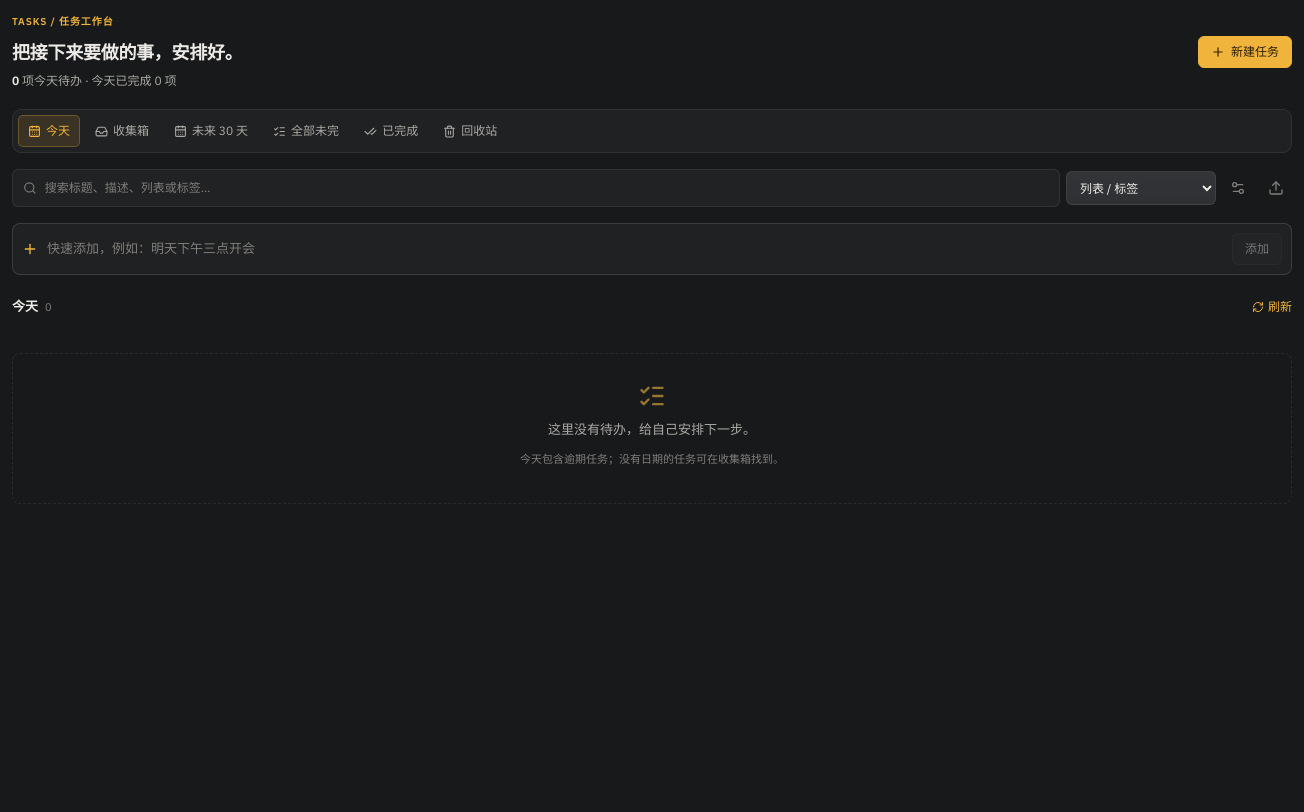
Test: 自然语言快建保留识别的日期时间，失败后保留原始输入可重试
Expected: the button "新建任务" is enabled, [1198,36,1292,68]
Type "明天下午三点开会" into the field named "快速添加任务" at {"x": 635, "y": 249}, box [47,231,1223,267]
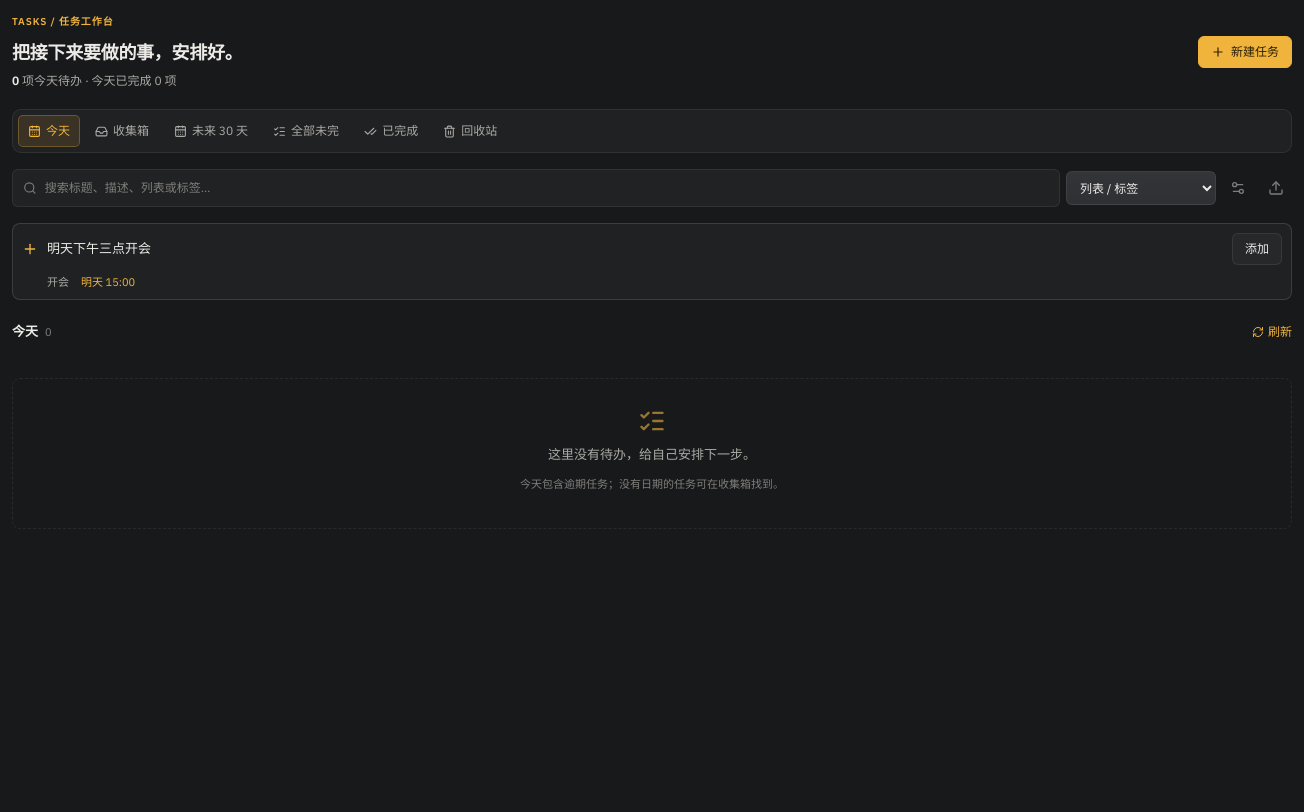
Expected: the text "开会" is shown, [47,275,69,289]
Click the button "添加" at {"x": 1257, "y": 249}, box [1232,233,1282,265]
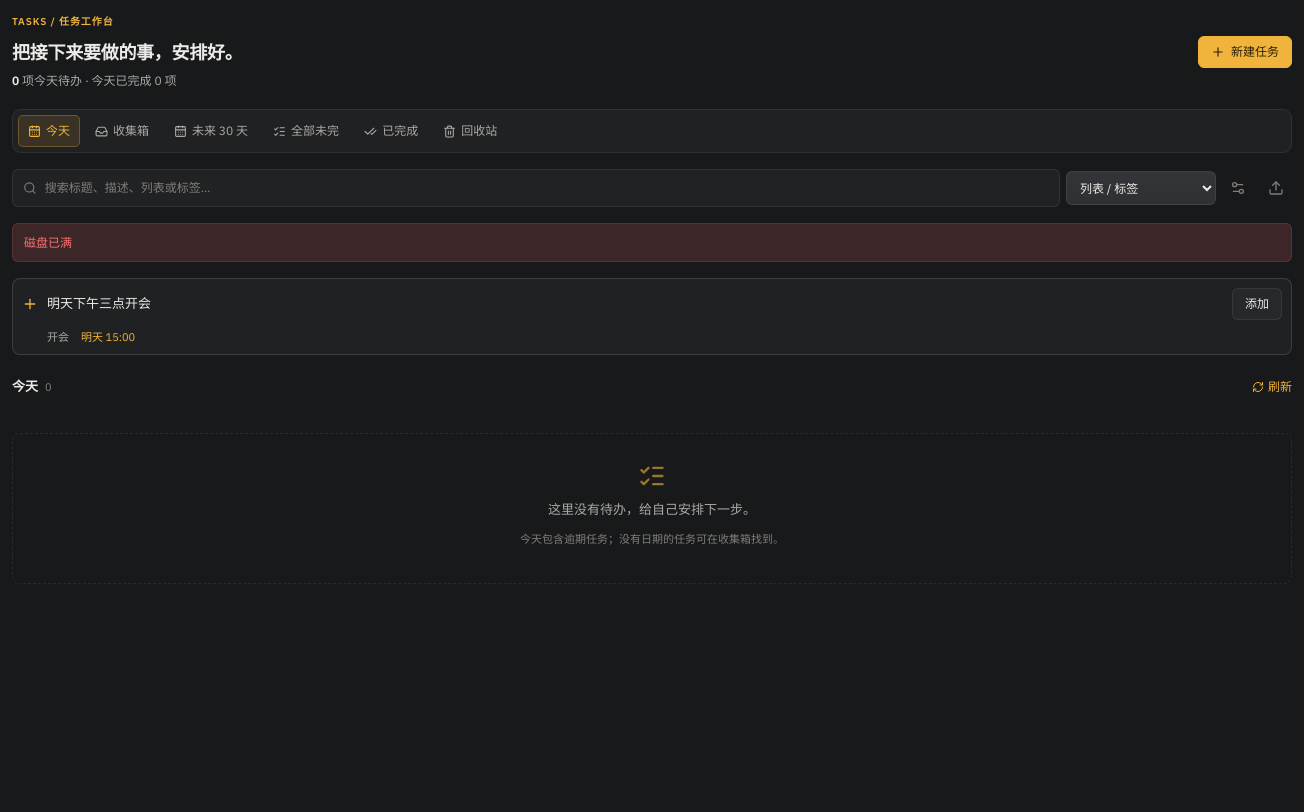
Expected: the message "磁盘已满" is shown, [12,223,1292,262]
Click the button "添加" at {"x": 1257, "y": 304}, box [1232,288,1282,320]
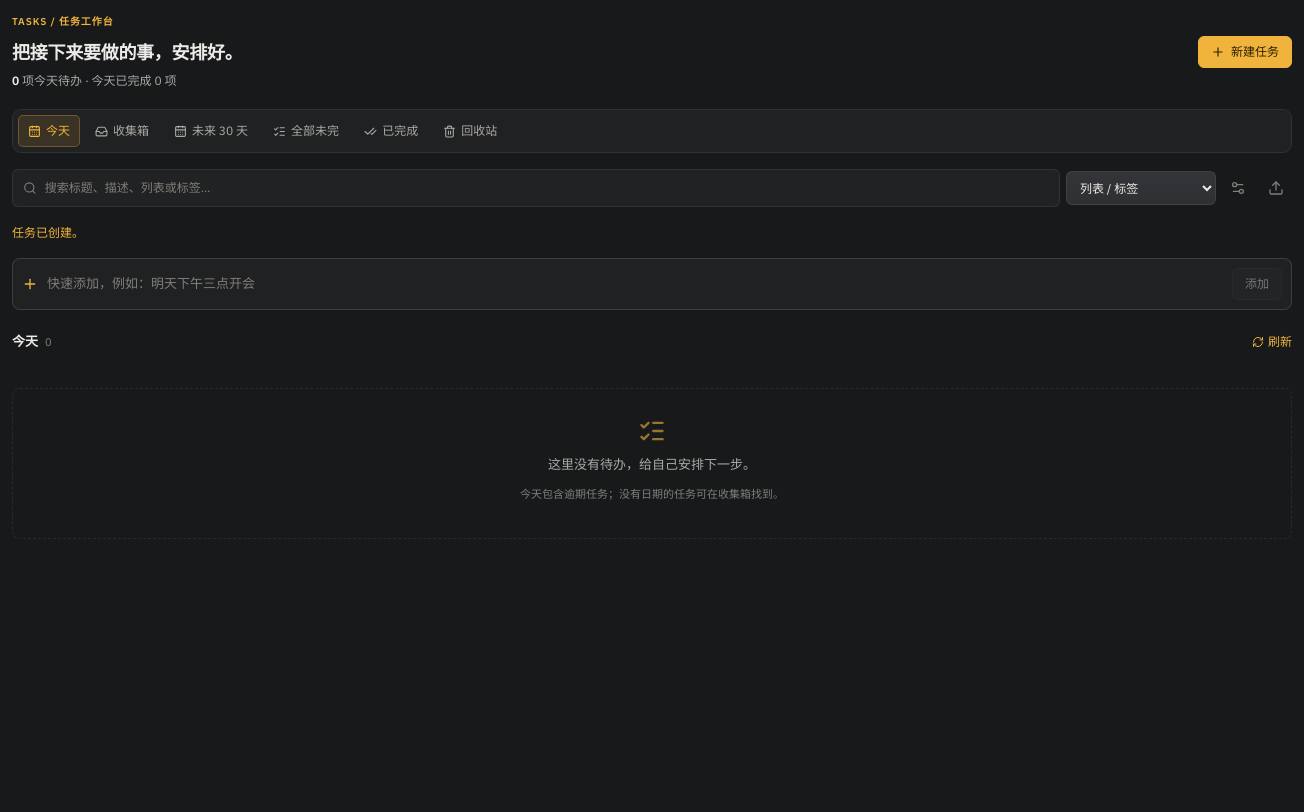
Expected: the text "任务已创建。" is shown, [12,225,84,240]
Expected: the field named "快速添加任务" is empty, [47,266,1223,302]
